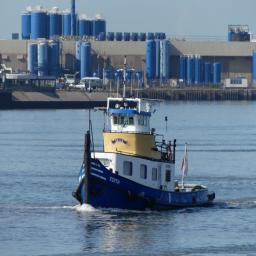tugboat: (71, 89, 218, 216)
